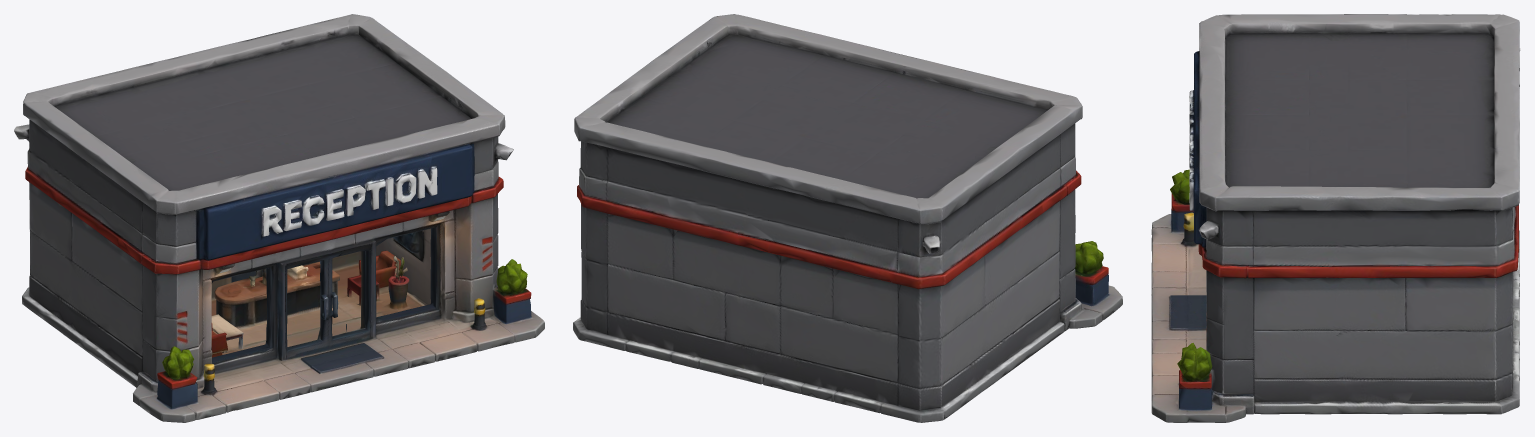
The model's file is reception_1k_real.glb.
The picture shows the model from 3 angles, left to right: view 1: azimuth 30°, elevation 25°; view 2: azimuth 150°, elevation 25°; view 3: azimuth 270°, elevation 25°; orthographic projection. The views are drawn at different scales.
Visible parts, largest first — view 1: tripo_node_61060e3d-6460-44e5-a7c1-572eb6c85ccb; view 2: tripo_node_61060e3d-6460-44e5-a7c1-572eb6c85ccb; view 3: tripo_node_61060e3d-6460-44e5-a7c1-572eb6c85ccb.
Part boxes in pixels (bbox=[...]): tripo_node_61060e3d-6460-44e5-a7c1-572eb6c85ccb: bbox=[14, 14, 544, 422]; tripo_node_61060e3d-6460-44e5-a7c1-572eb6c85ccb: bbox=[573, 14, 1122, 422]; tripo_node_61060e3d-6460-44e5-a7c1-572eb6c85ccb: bbox=[1151, 14, 1520, 422].
Size of the model in its own units: 1 by 0.5027 by 0.7723.
Materials: 1 (1 with a texture image).
